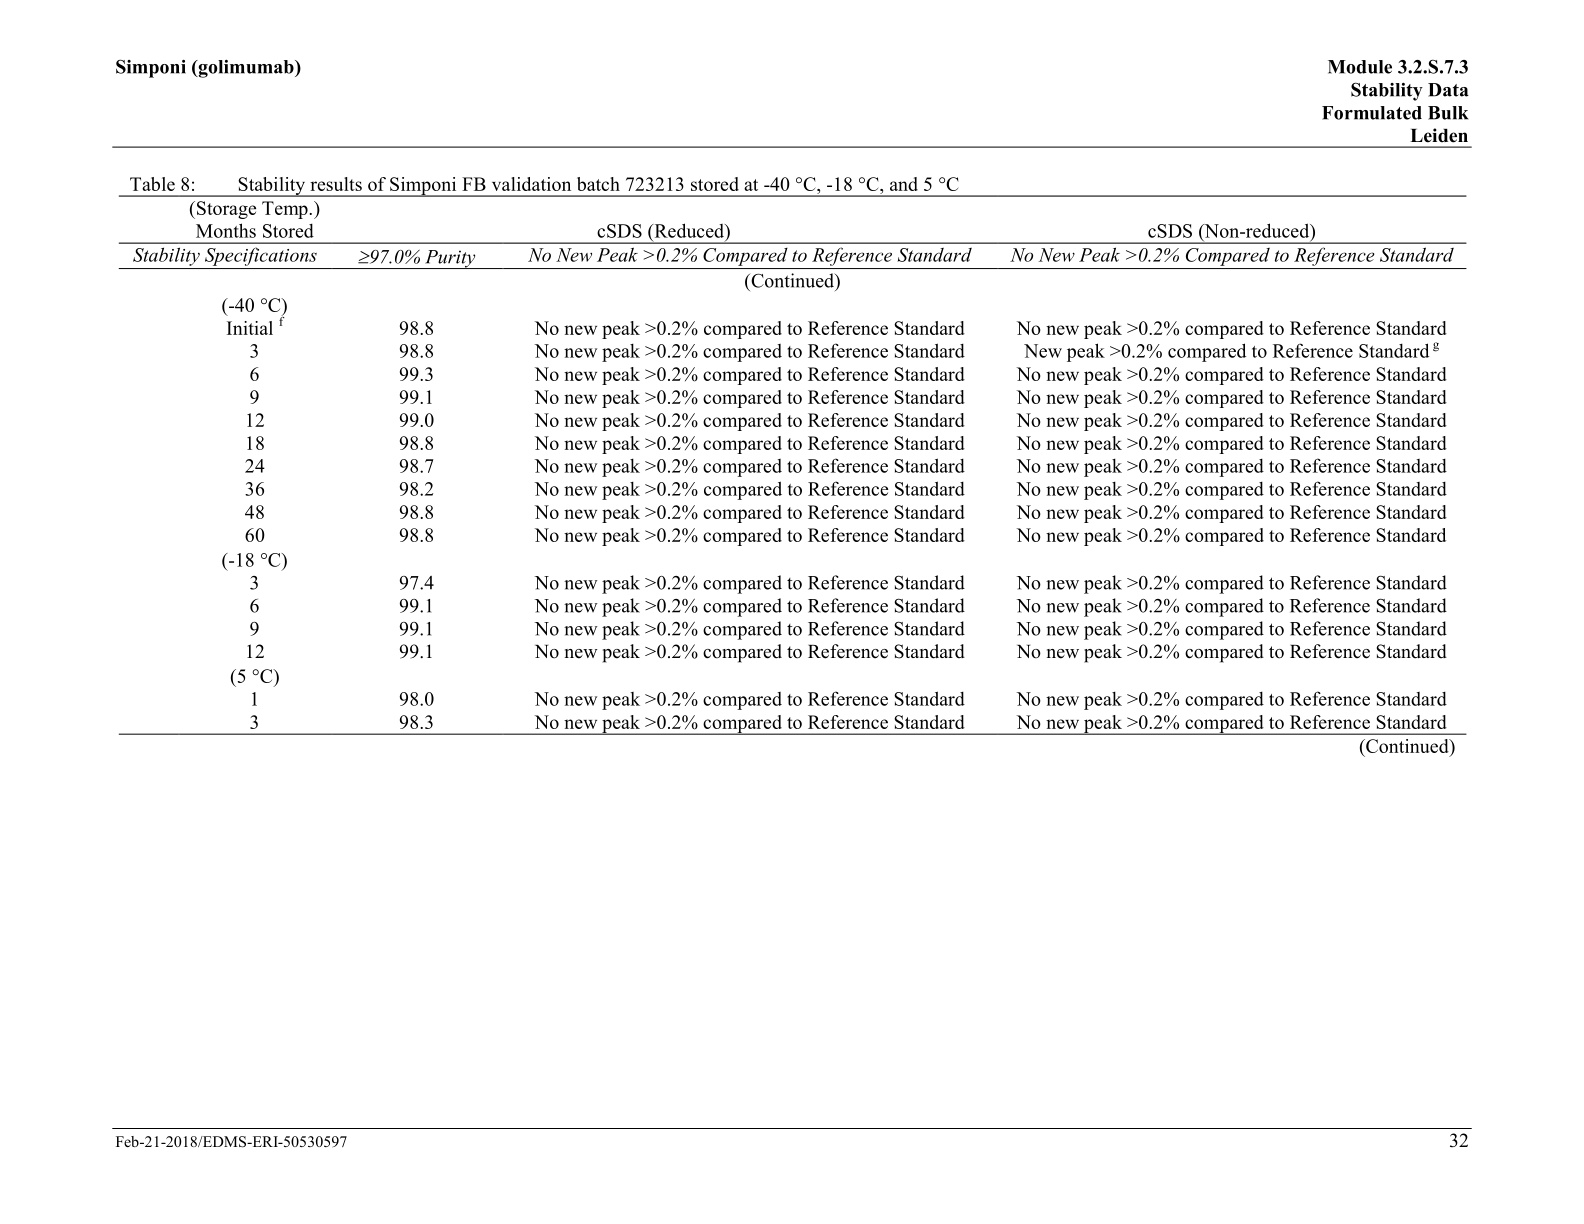partial_lined: (118, 195, 1467, 735)
